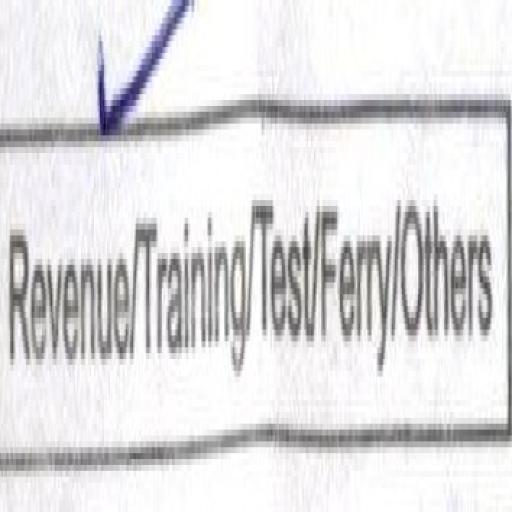check: (0, 0, 136, 459)
